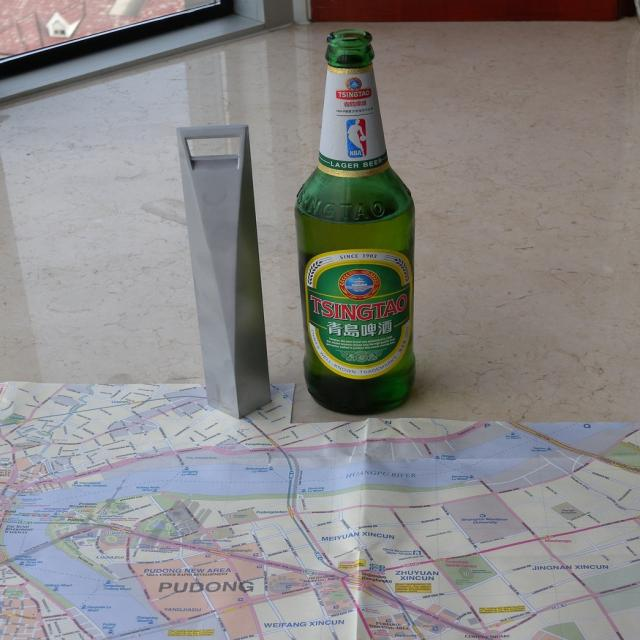tsingtao: (304, 250, 415, 381)
